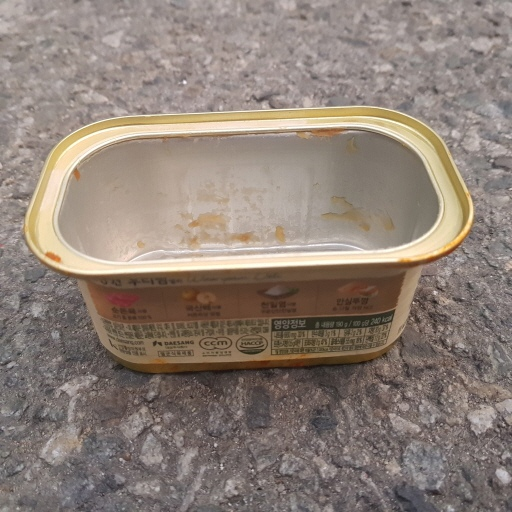Metal_2: (22, 105, 473, 366)
